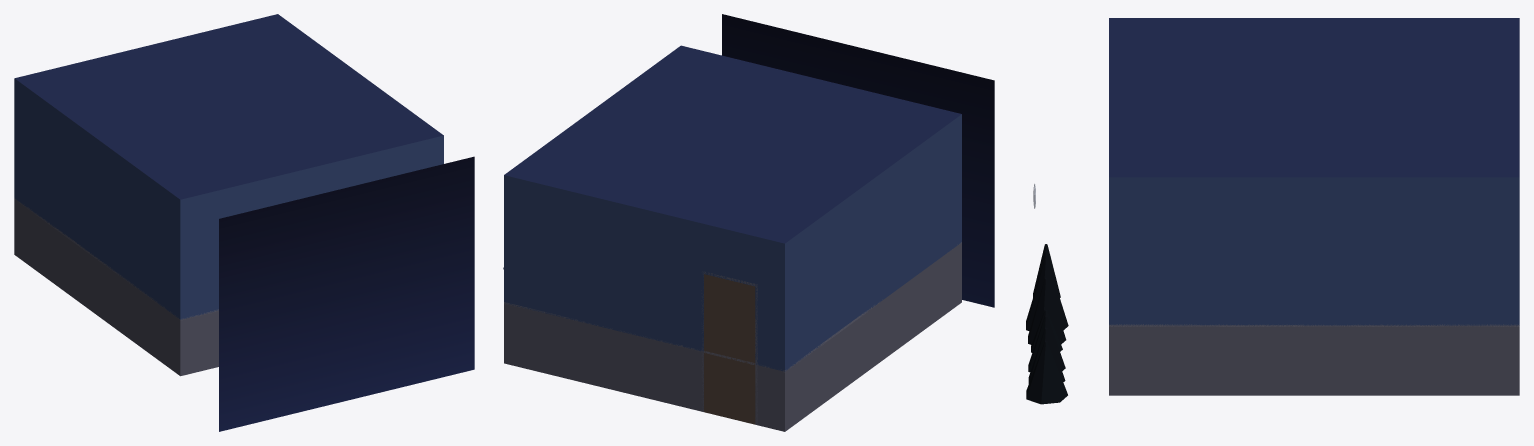
The model's file is HamsterHabitatArena.fbx.
3 renders of one model, left to right at view 1: azimuth 30°, elevation 25°; view 2: azimuth 150°, elevation 25°; view 3: azimuth 270°, elevation 25°, orthographic. The views are drawn at different scales.
Visible parts, largest first — view 1: Bedroom, Bedroom Glow; view 2: Bedroom, Bedroom Glow; view 3: Bedroom.
Boxes of the visible parts, x1,y1,x2,y2 form: Bedroom: (14,14,443,376); Bedroom Glow: (219,156,474,431); Bedroom: (503,45,961,431); Bedroom Glow: (722,14,994,307); Bedroom: (1026,18,1519,404).
Size of the model in its own units: 132 by 102 by 174.
